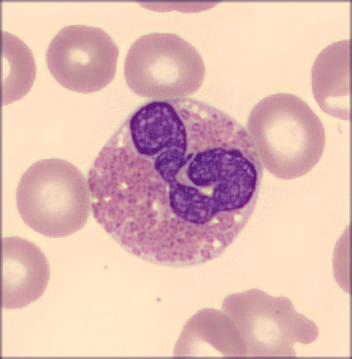EO: (88, 99, 262, 268)
RBC: (220, 288, 317, 359), (247, 93, 325, 180), (15, 159, 90, 237), (123, 33, 205, 98), (46, 22, 118, 93), (171, 306, 246, 359), (1, 236, 52, 312), (308, 40, 349, 124), (1, 29, 36, 108)
